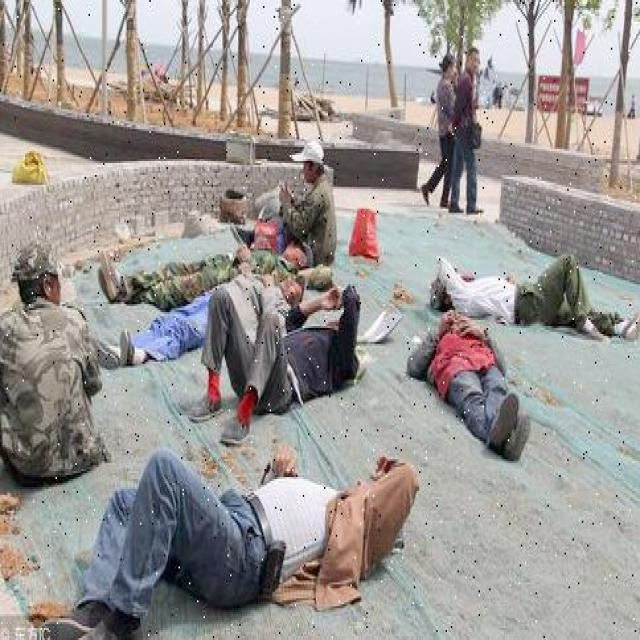fall: (56, 439, 432, 638), (193, 298, 374, 435), (416, 312, 524, 451), (435, 247, 622, 320)
